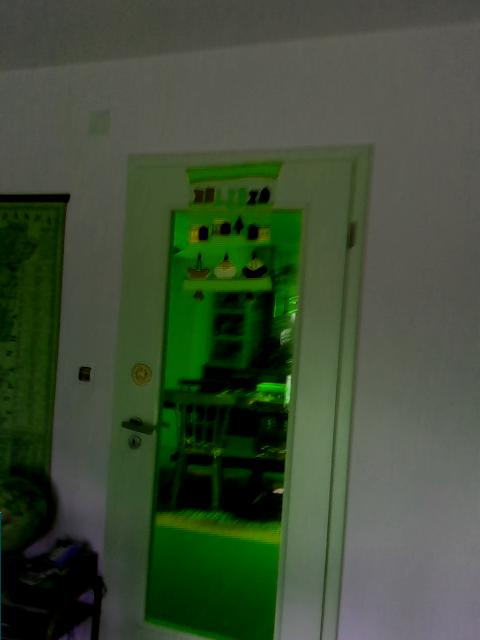closed_door: (103, 142, 373, 639)
